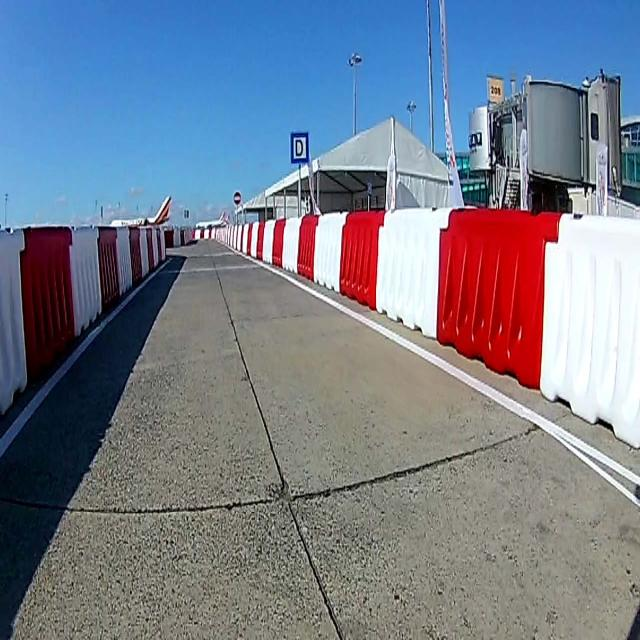durak: (291, 135, 309, 161)
girisyok: (233, 190, 243, 206)
